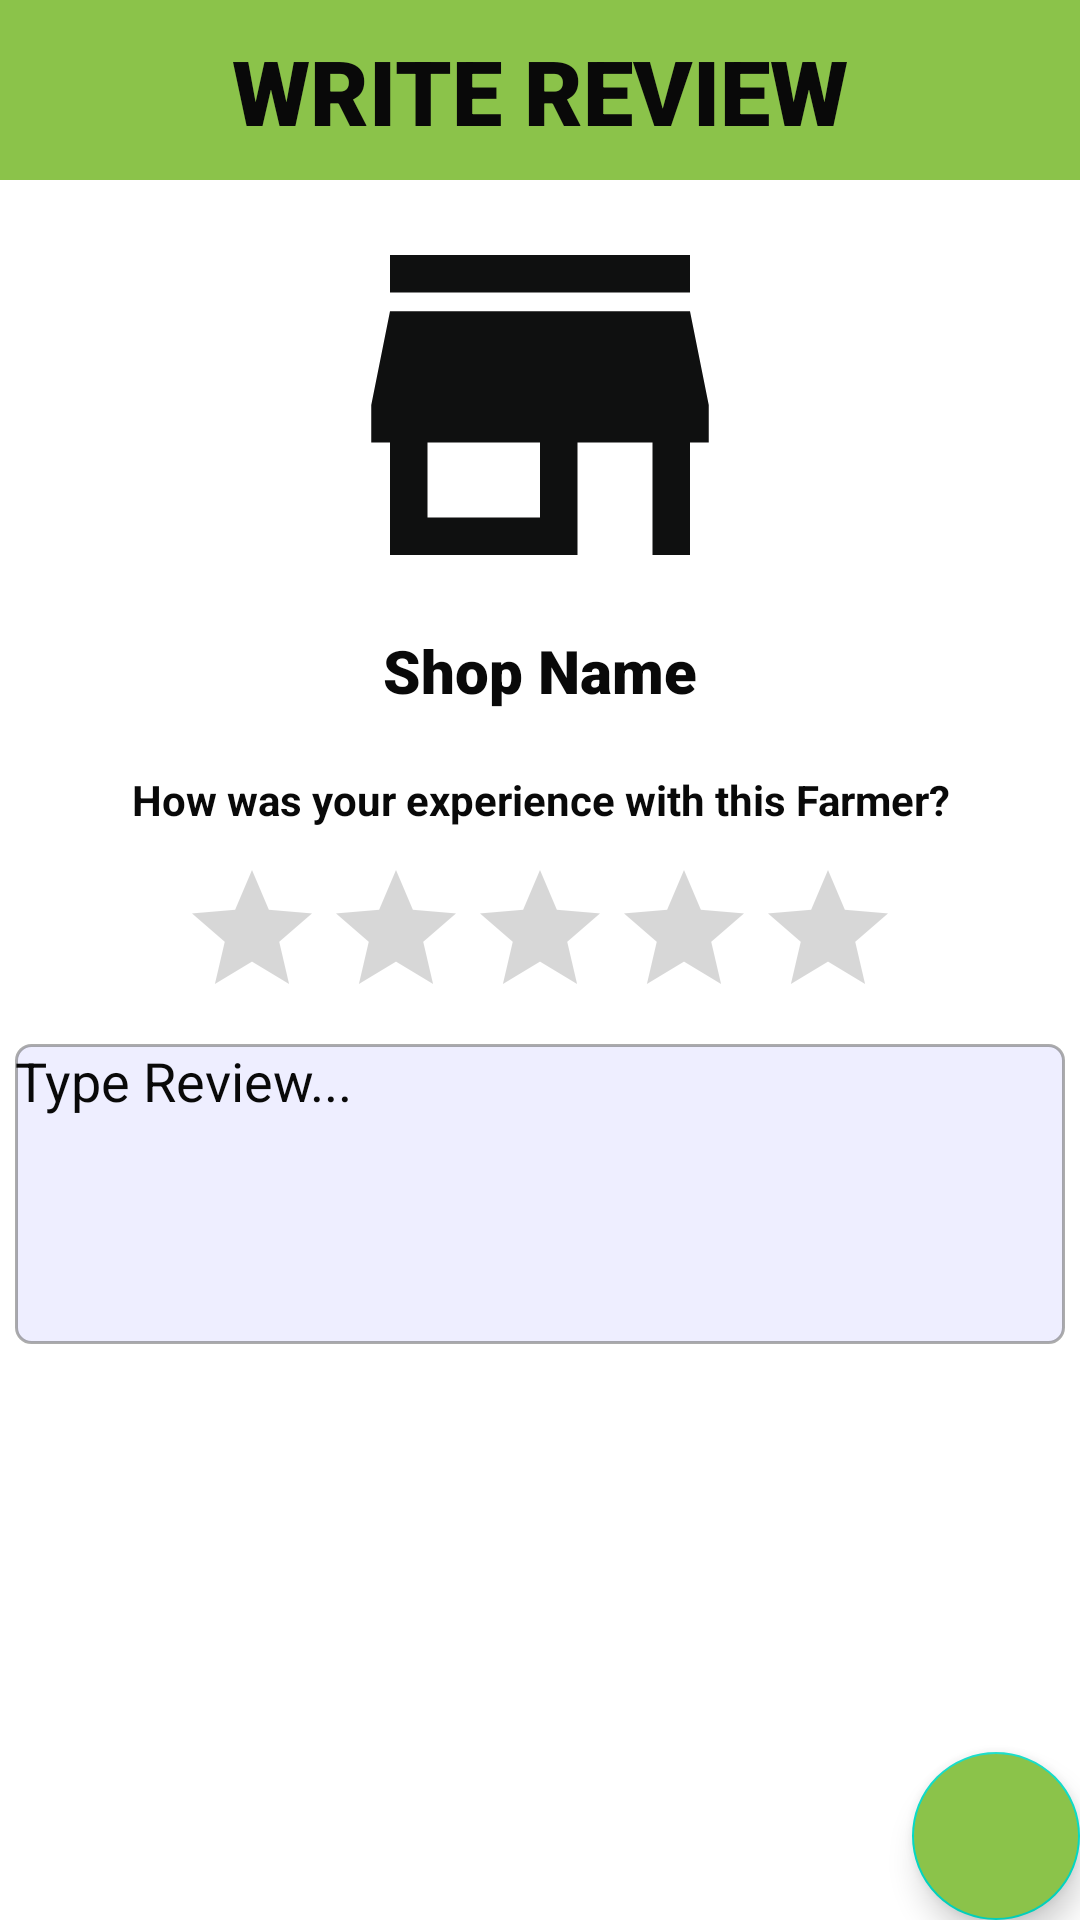

Icons on this 1080 × 1920 Android screen, each with its box as {"x1": x1, "y1": y1, "x2": x2, "y2": y2}:
store: {"x1": 371, "y1": 255, "x2": 709, "y2": 555}
